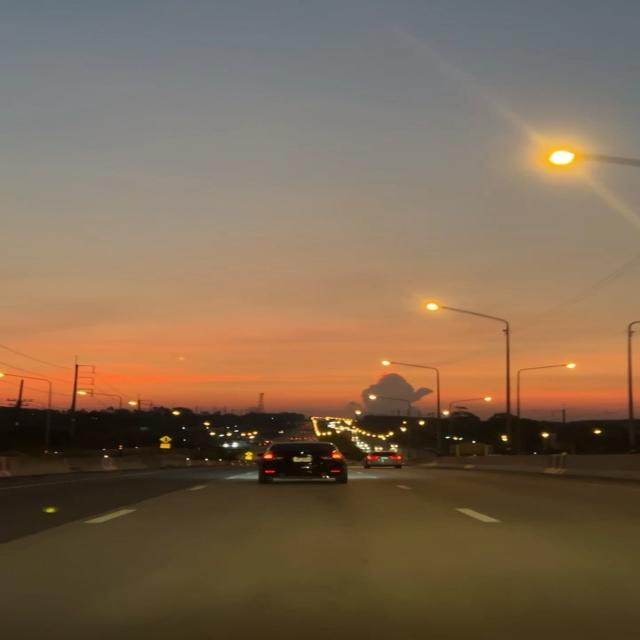Poth-hole: (135, 464, 549, 640)
